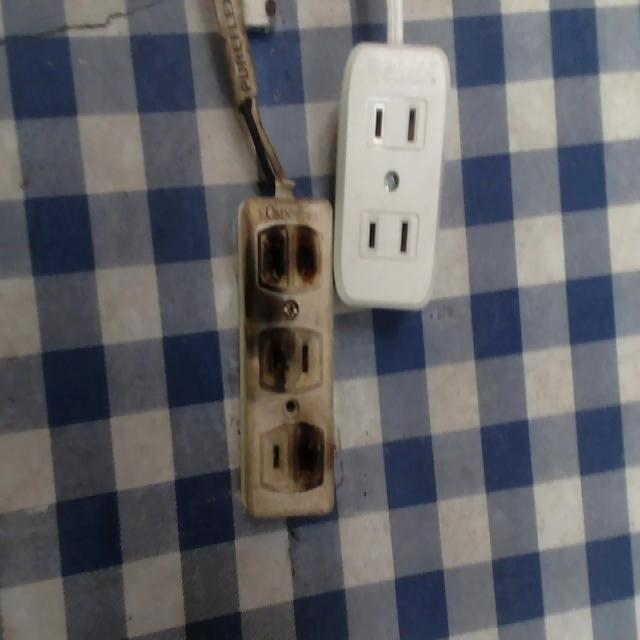-: (247, 220, 333, 297), (252, 319, 297, 397), (290, 416, 328, 491)
